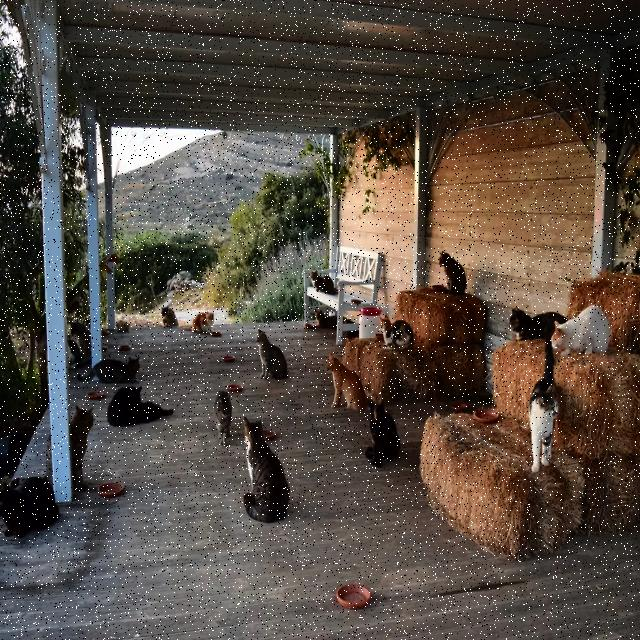cat: (244, 417, 290, 522), (529, 333, 559, 472), (0, 477, 59, 538), (551, 305, 611, 355), (108, 387, 174, 427), (365, 398, 400, 468), (326, 353, 368, 409), (70, 407, 94, 491), (509, 308, 568, 339), (78, 357, 140, 383), (256, 328, 288, 378), (439, 252, 466, 295), (380, 317, 414, 348), (214, 390, 232, 446), (70, 322, 91, 361), (310, 270, 338, 295), (191, 312, 214, 332), (315, 310, 338, 328), (161, 307, 179, 327), (116, 320, 130, 332)
